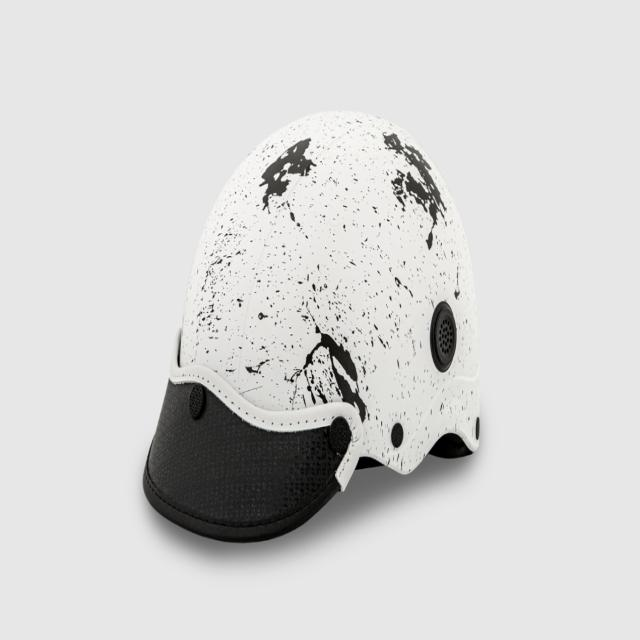Helmet: (141, 106, 483, 545)
